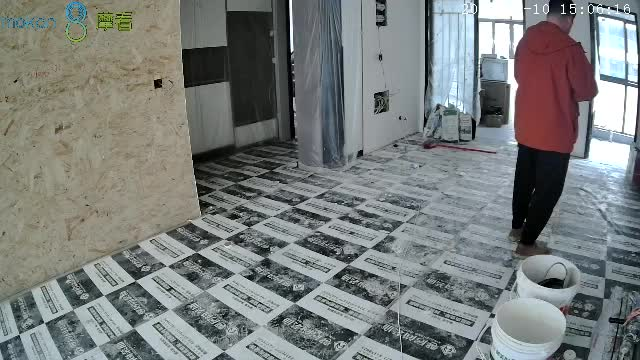people: (512, 1, 598, 256)
window: (589, 6, 640, 142)
